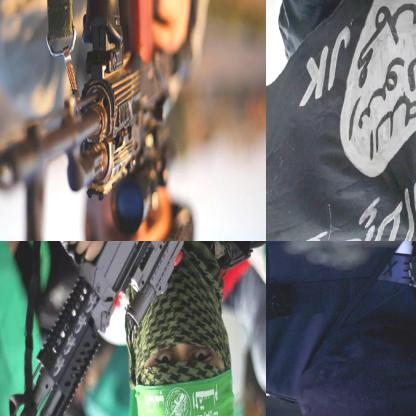rifle: (0, 0, 182, 240), (0, 241, 194, 415)
